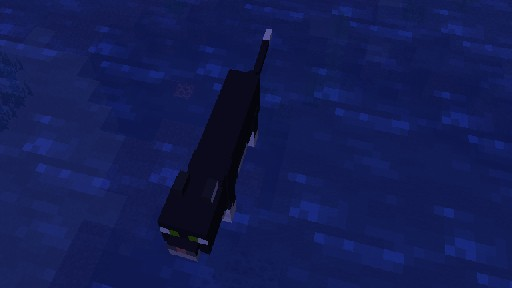cat: (156, 27, 272, 261)
